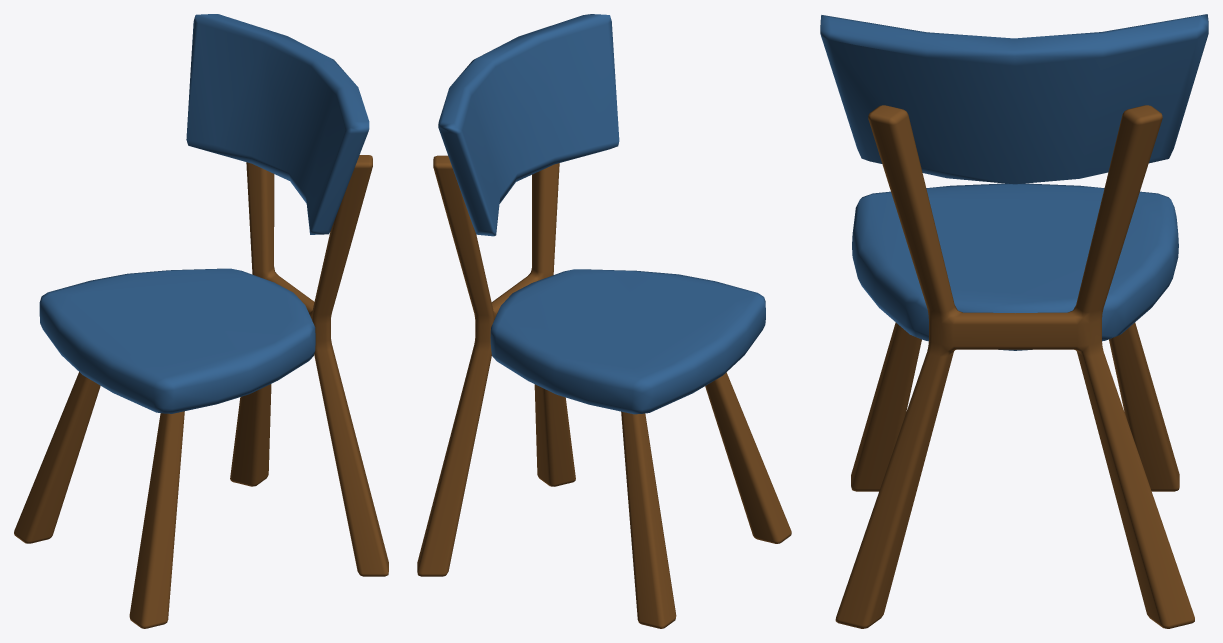
The model's file is chair_03_blue.fbx.
The picture shows the model from 3 angles, left to right: view 1: azimuth 30°, elevation 25°; view 2: azimuth 150°, elevation 25°; view 3: azimuth 270°, elevation 25°; orthographic projection. The views are drawn at different scales.
Parts seen in each view (by area): view 1: chair_03_blue; view 2: chair_03_blue; view 3: chair_03_blue.
Part boxes in pixels (bbox=[...]): chair_03_blue: bbox=[14, 14, 388, 628]; chair_03_blue: bbox=[417, 14, 791, 628]; chair_03_blue: bbox=[820, 14, 1208, 628].
Bounding box in the file's own units: 58.11 × 101 × 60.72.
Materials: 1 (1 with a texture image).
